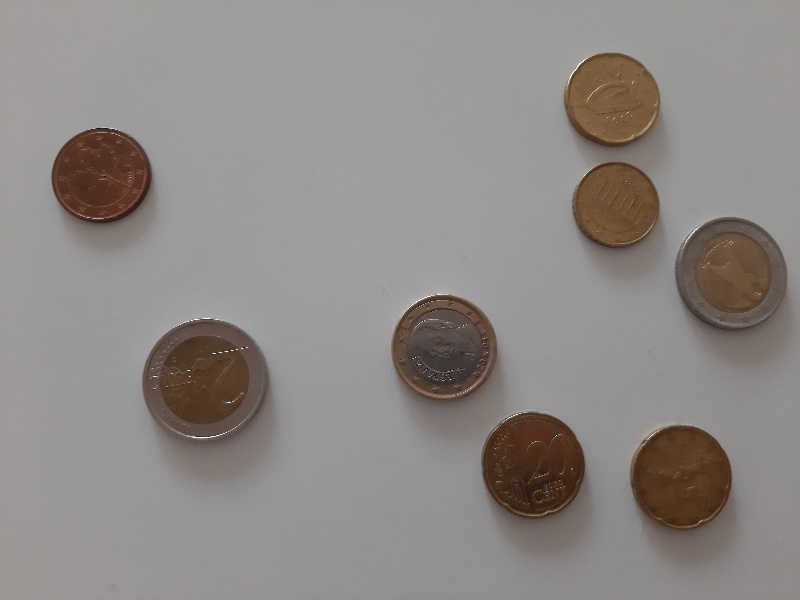1 euro: (384, 290, 501, 404)
10 cent: (568, 159, 664, 252)
2 euro: (141, 313, 272, 445), (672, 215, 789, 335)
20 cent: (479, 409, 588, 521), (627, 423, 736, 532), (563, 50, 662, 149)
5 cent: (50, 125, 154, 228)
